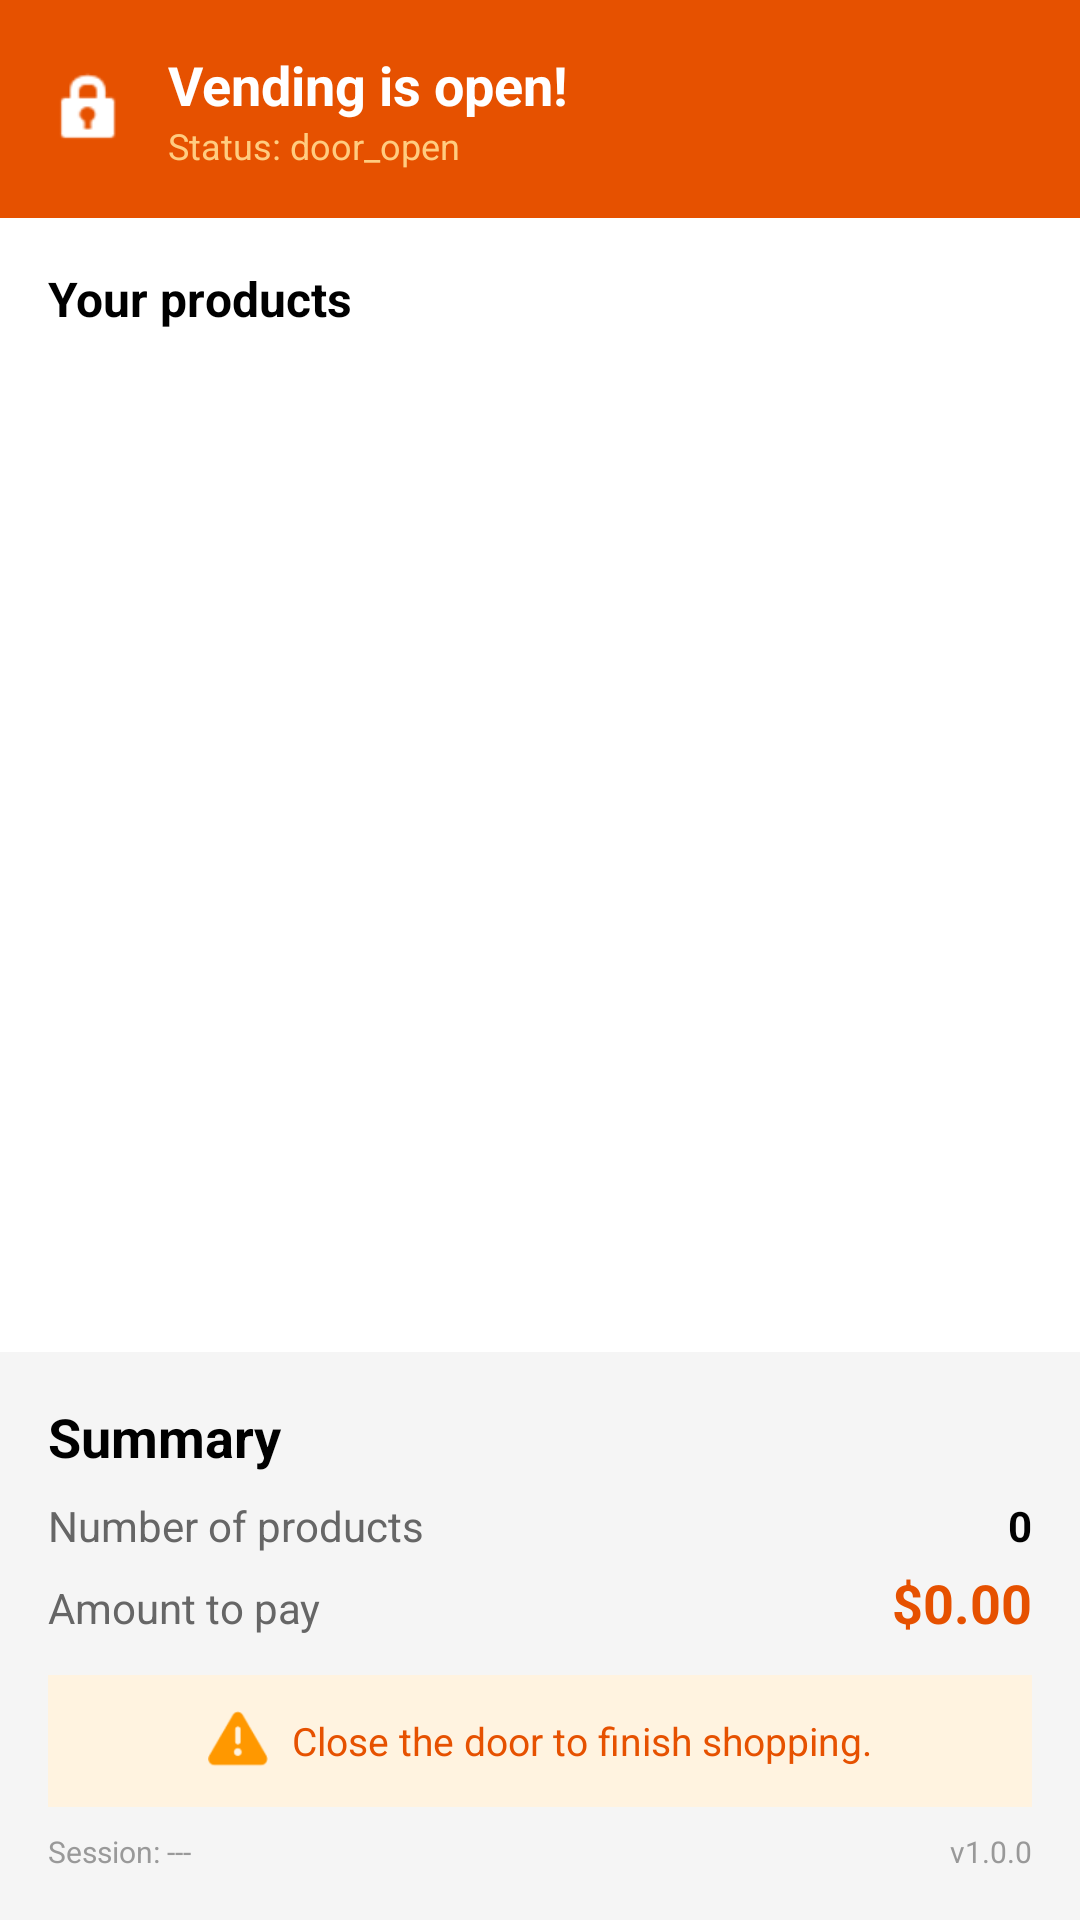

Icon bounding boxes for this 1080px x 1920px phone screenshot, format (x1, y1, x2, y2):
alert: (208, 1711, 268, 1766)
lock idle: (60, 74, 116, 139)
